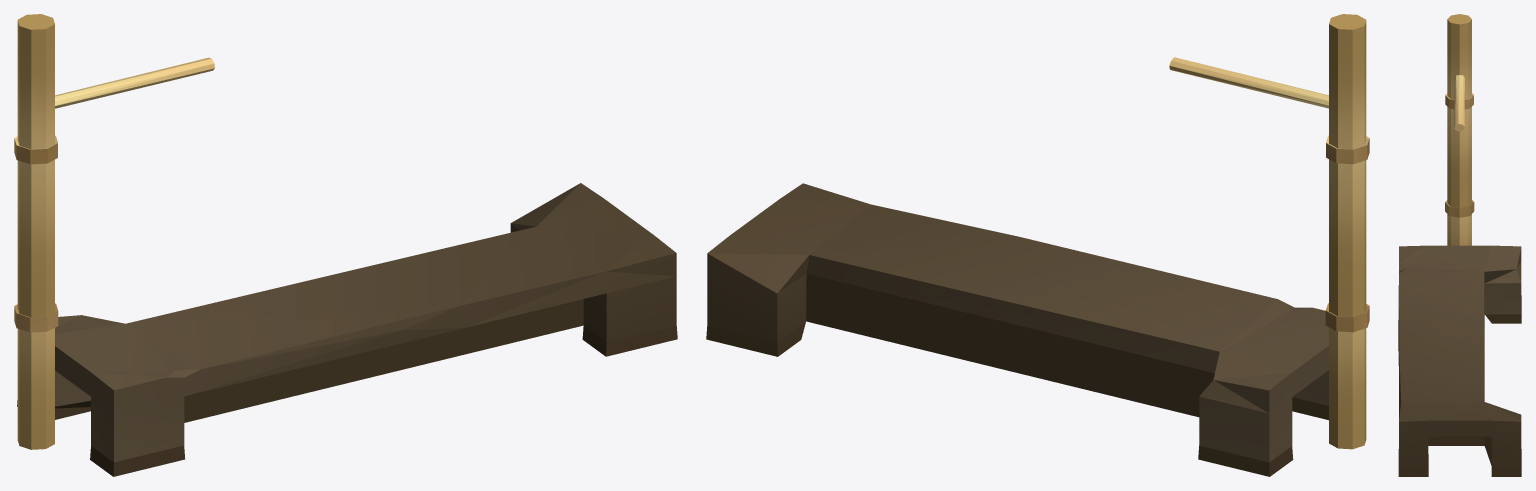
File: MarketStall_C.gltf
3 views of the same model, side by side, from view 1: azimuth 30°, elevation 25°; view 2: azimuth 150°, elevation 25°; view 3: azimuth 270°, elevation 25° (orthographic). The views are drawn at different scales.
Visible parts, largest first — view 1: MarketStall_Table_Space.001, MarketStall_FlagPole.001; view 2: MarketStall_Table_Space.001, MarketStall_FlagPole.001; view 3: MarketStall_Table_Space.001, MarketStall_FlagPole.001.
Boxes of the visible parts, x1,y1,x2,y2 form: MarketStall_Table_Space.001: (17, 183, 677, 476); MarketStall_FlagPole.001: (14, 14, 214, 449); MarketStall_Table_Space.001: (706, 183, 1328, 476); MarketStall_FlagPole.001: (1169, 14, 1369, 449); MarketStall_Table_Space.001: (1398, 245, 1521, 476); MarketStall_FlagPole.001: (1445, 14, 1474, 245).
Bounding box in the file's own units: 3.66 × 2.44 × 1.
Materials: 1 (1 with a texture image).
